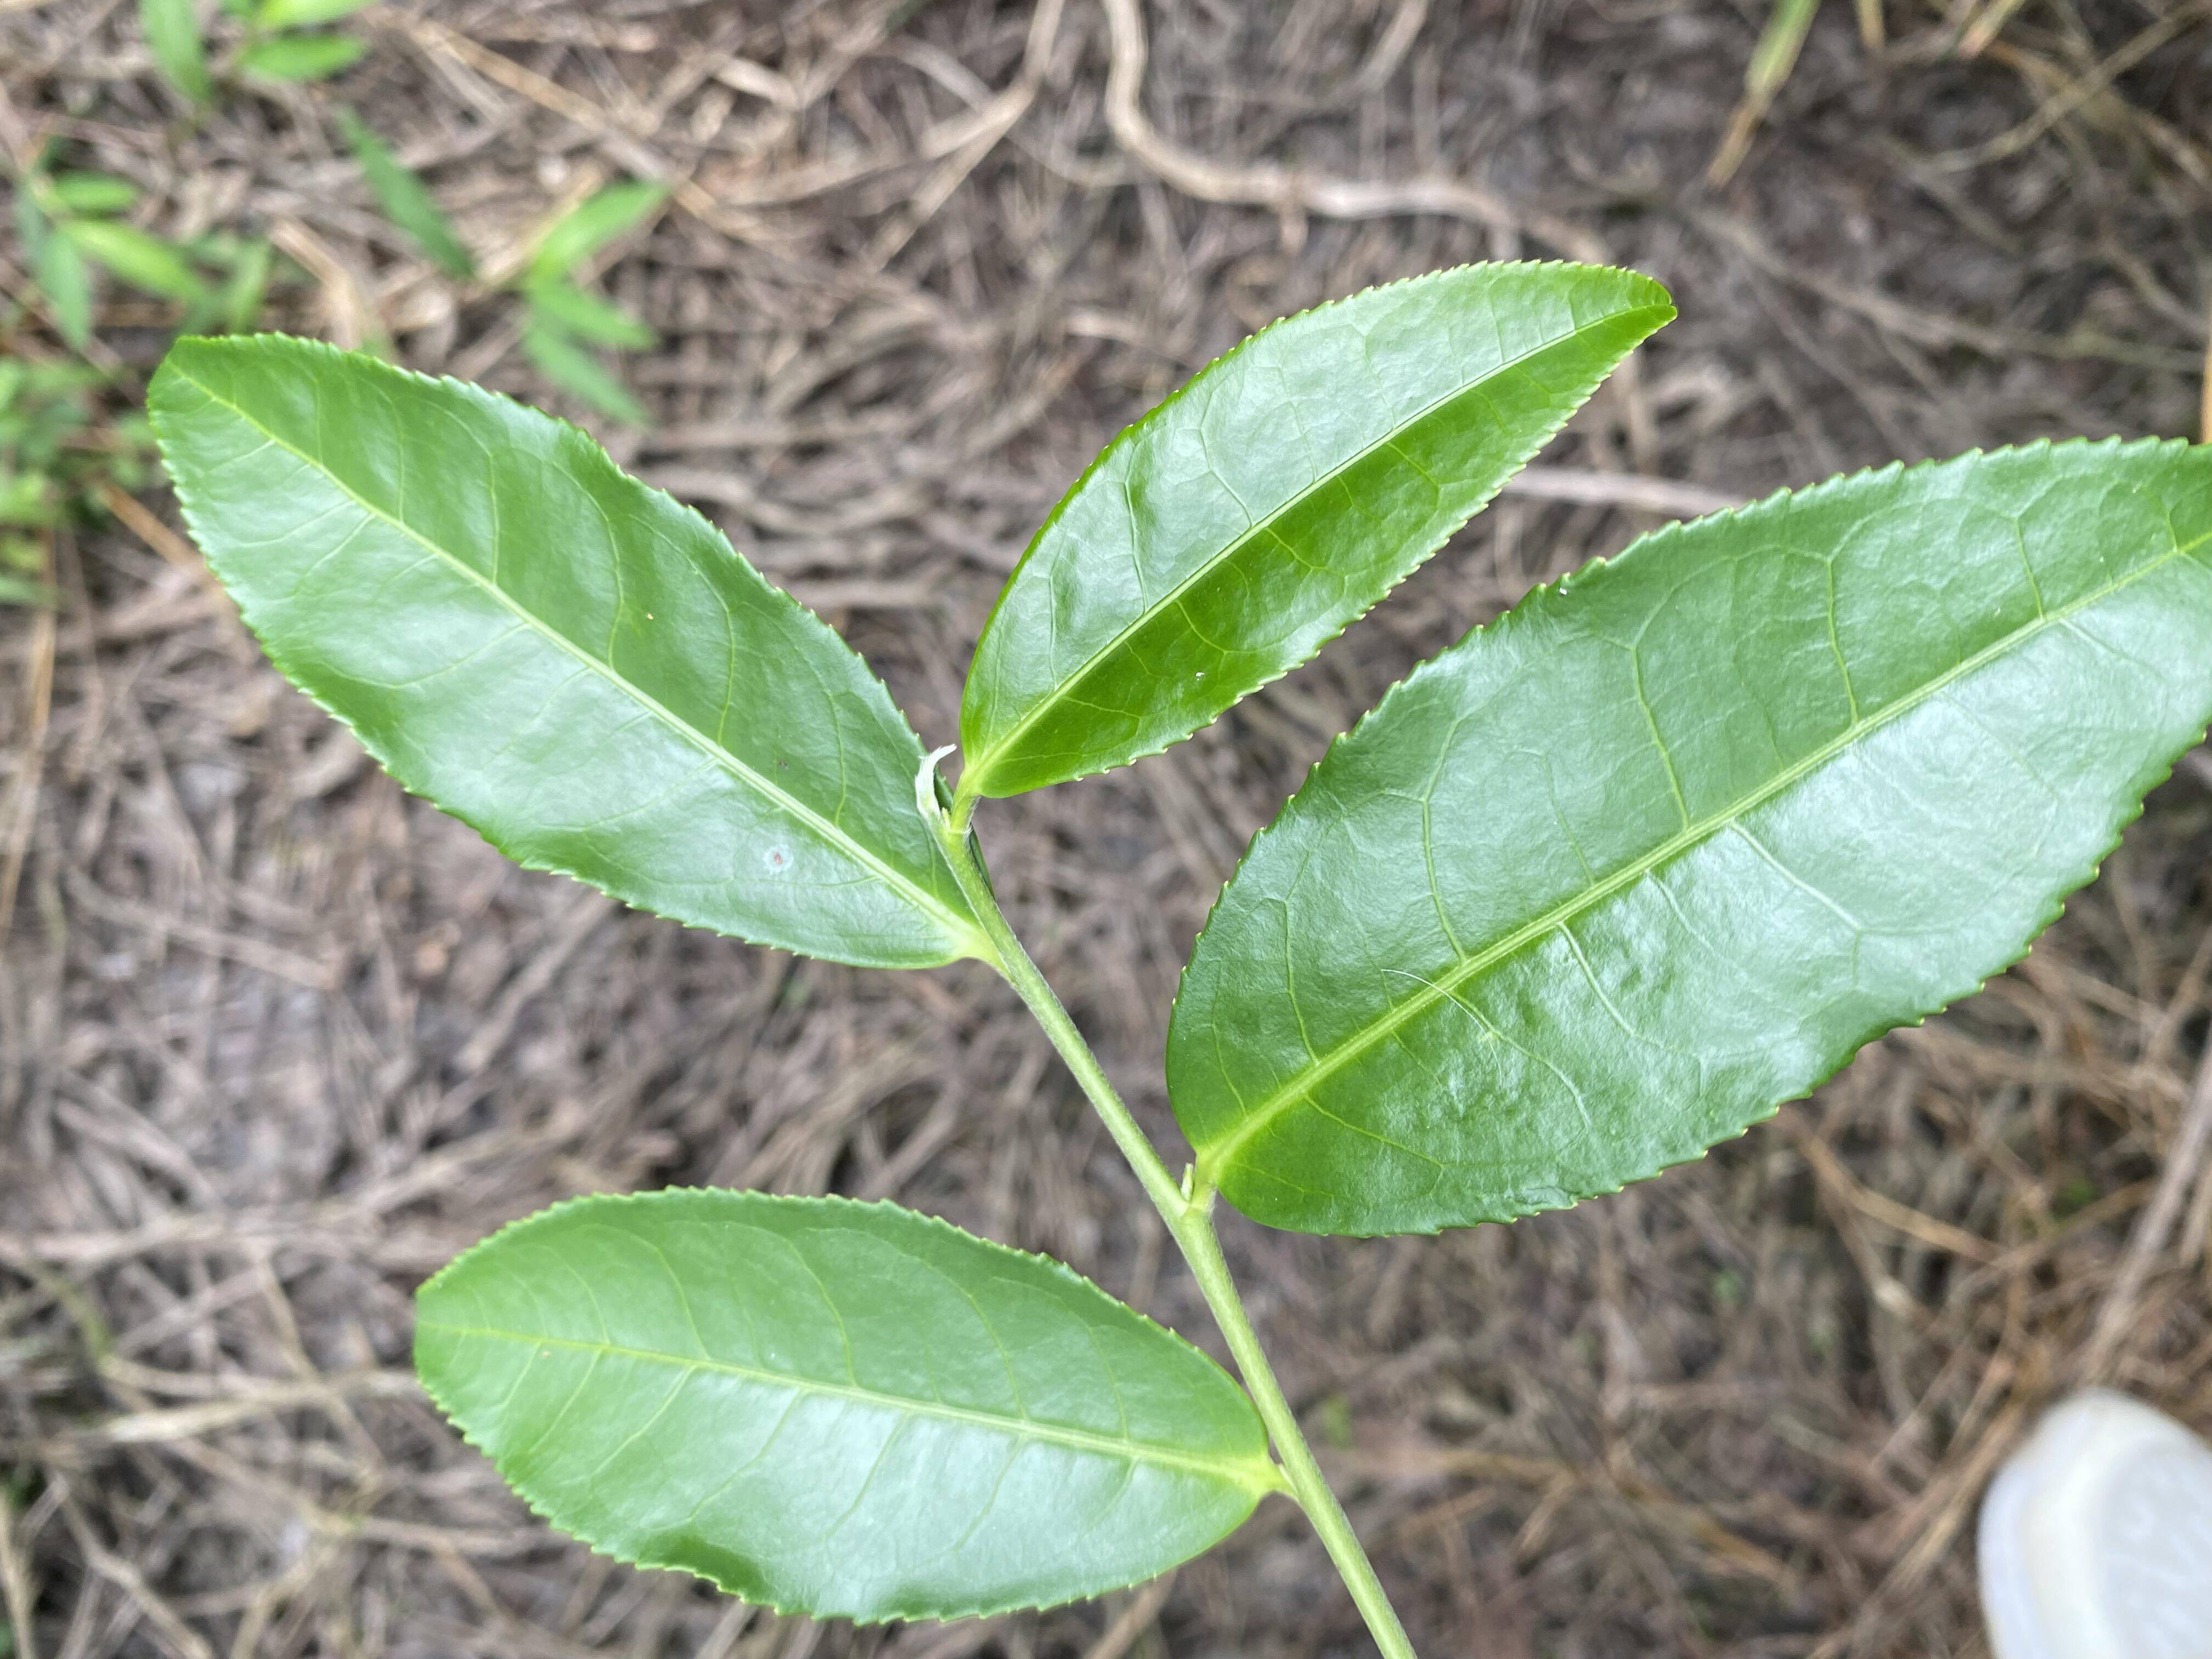healthy: (1163, 434, 2209, 1244), (958, 254, 1679, 805), (409, 1185, 1270, 1624)
tanju_low: (143, 331, 975, 965)
